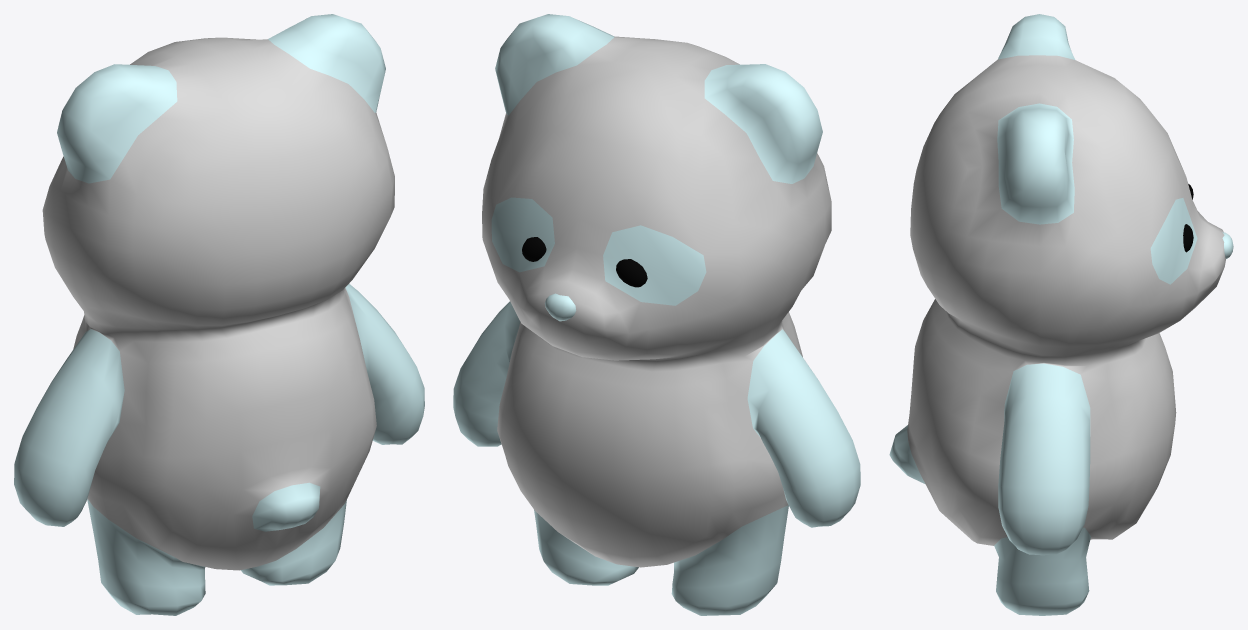
The model's file is PandaStatic.fbx.
3 renders of one model, left to right at view 1: azimuth 30°, elevation 25°; view 2: azimuth 150°, elevation 25°; view 3: azimuth 270°, elevation 25°, orthographic. The views are drawn at different scales.
Visible parts, largest first — view 1: panda11; view 2: panda11, pCube38, pCube33; view 3: panda11.
Part boxes in pixels (x1,y1,x2,y2): panda11: (14,14,424,615); panda11: (453,14,860,615); pCube38: (616,259,647,287); pCube33: (545,293,576,321); panda11: (889,14,1225,615).
Bounding box in the file's own units: 5.93 × 7.79 × 4.77.
